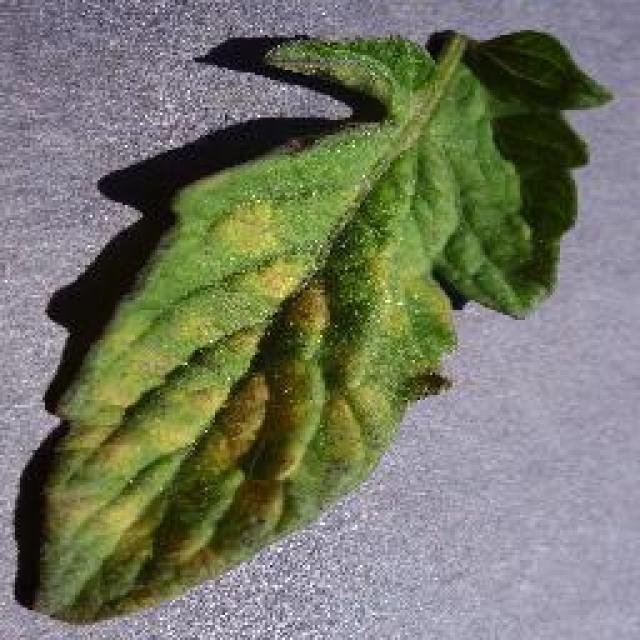Tomato___Leaf_Mold: (30, 30, 608, 620)
